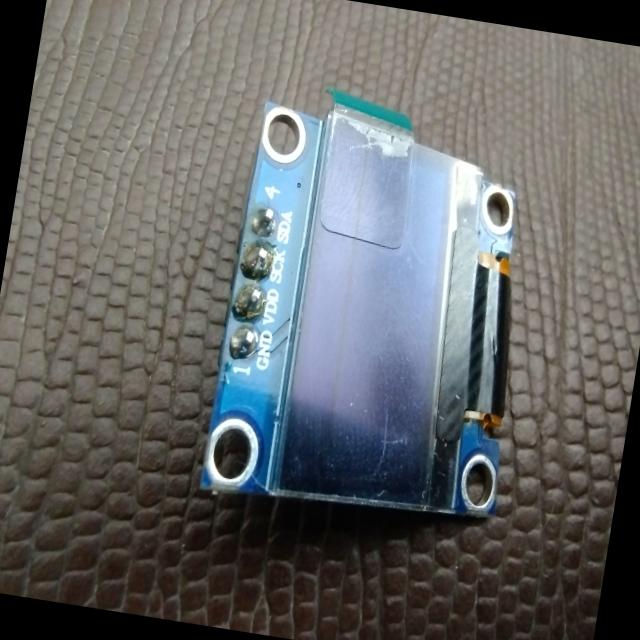oled: (196, 71, 563, 544)
